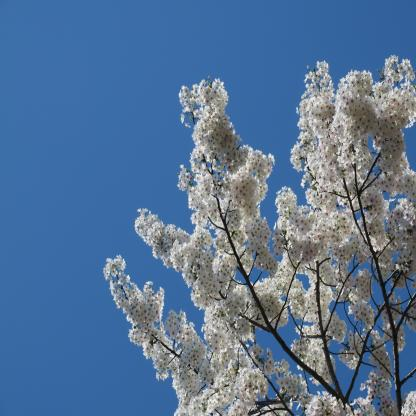OshimaSakura: (103, 54, 416, 416)
